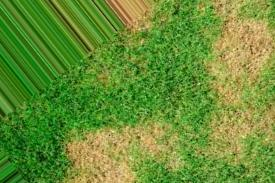patch: (213, 8, 265, 85), (210, 106, 266, 160), (69, 139, 120, 181)
